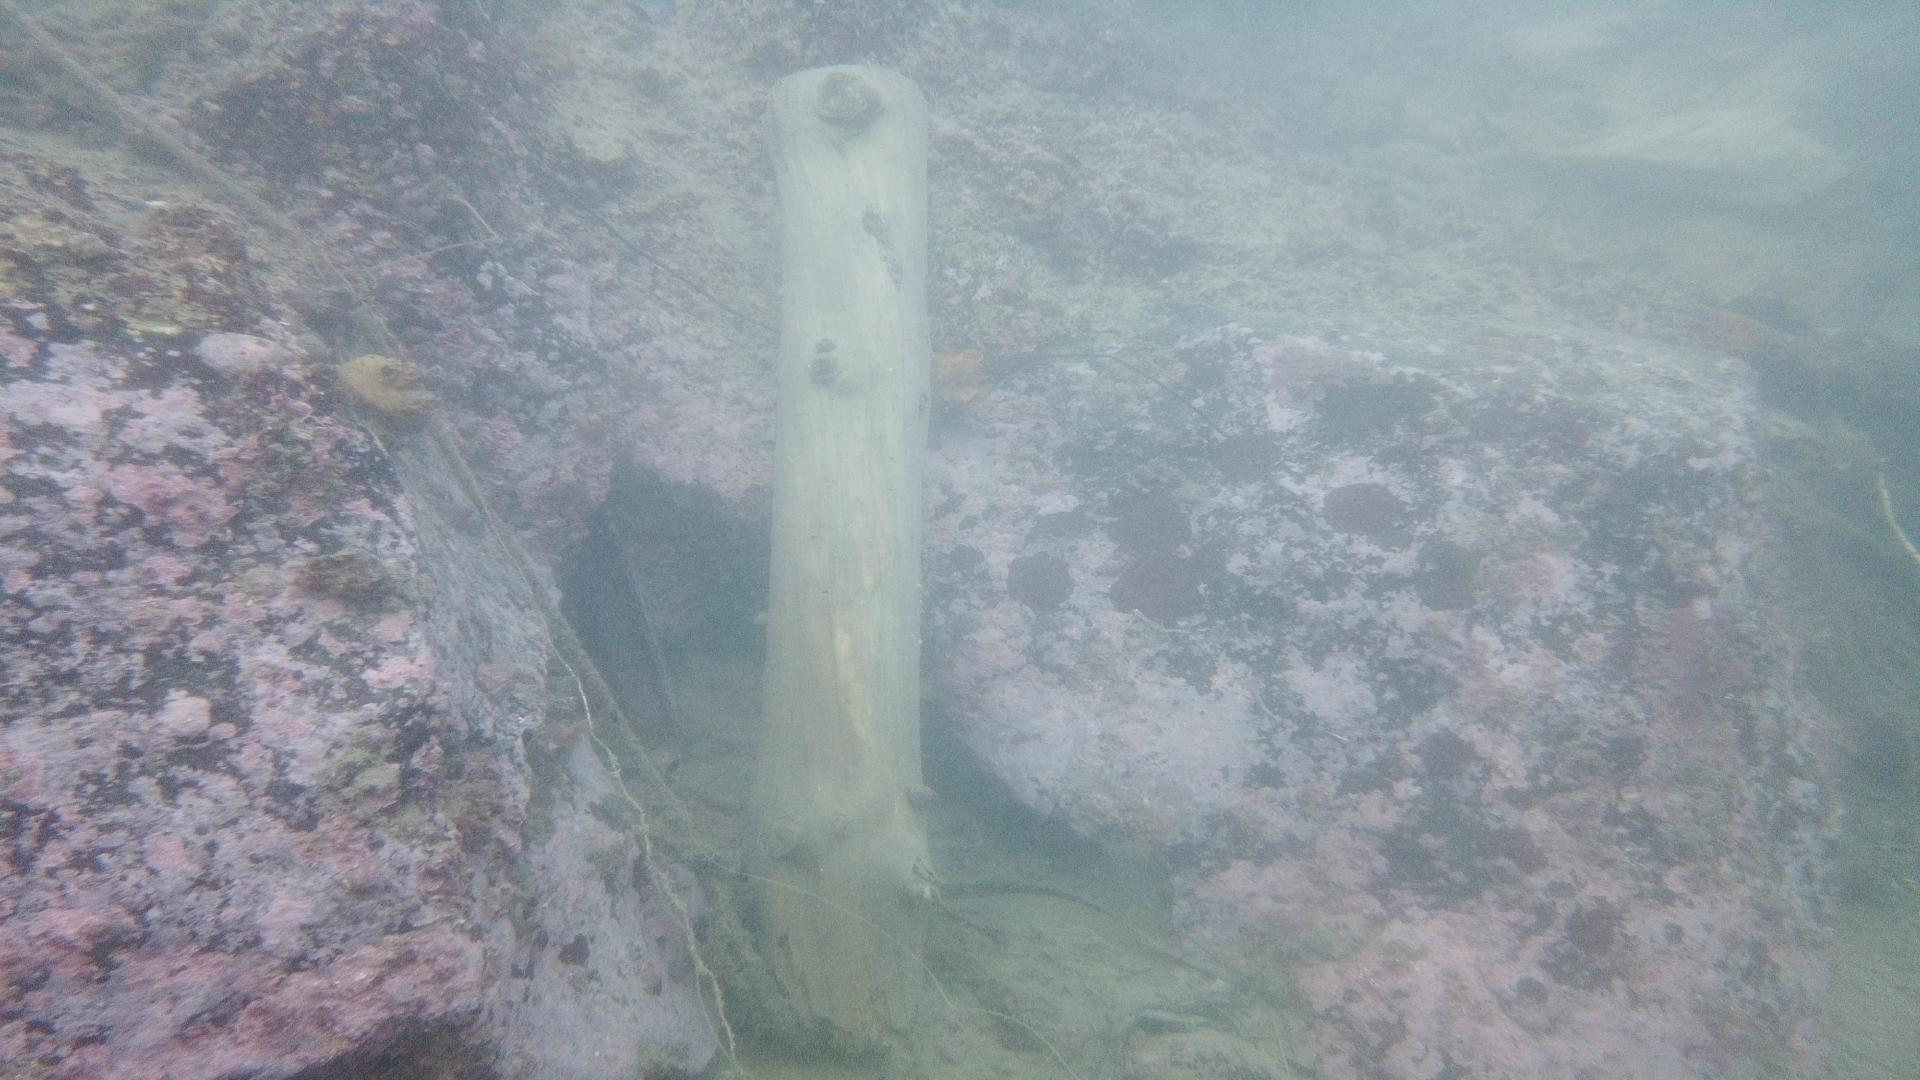rope: (0, 0, 686, 814)
wood: (741, 61, 938, 1064)
